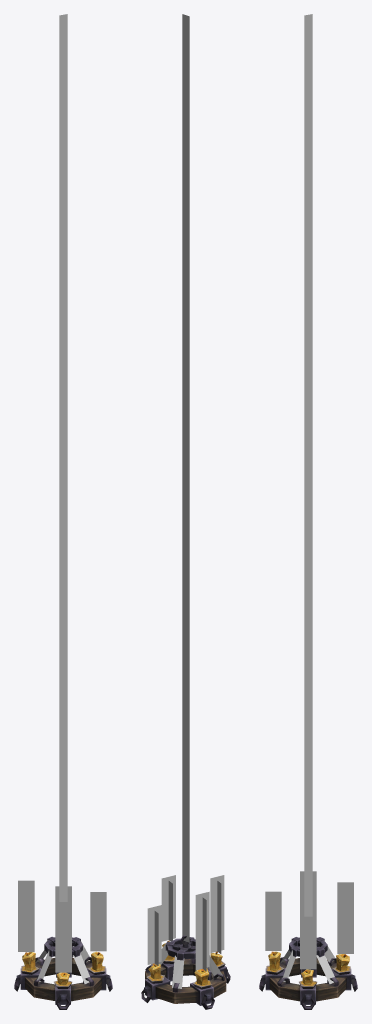
The model's file is crypt_chandelier01.fbx.
3 renders of one model, left to right at view 1: azimuth 90°, elevation 25°; view 2: azimuth 210°, elevation 25°; view 3: azimuth 270°, elevation 25°, orthographic.
Visible parts, largest first — view 1: obj3; view 2: obj3; view 3: obj3.
Boxes of the visible parts, x1,y1,x2,y2 form: obj3: [14, 14, 112, 1009]; obj3: [141, 14, 230, 1009]; obj3: [259, 14, 357, 1009].
Size of the model in its own units: 1.76 by 19.21 by 1.76.
